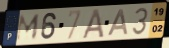3: (130, 6, 150, 36)
6: (40, 12, 58, 41)
7: (66, 9, 84, 41)
A: (81, 8, 106, 41), (106, 8, 129, 38)
M: (14, 14, 42, 43)
